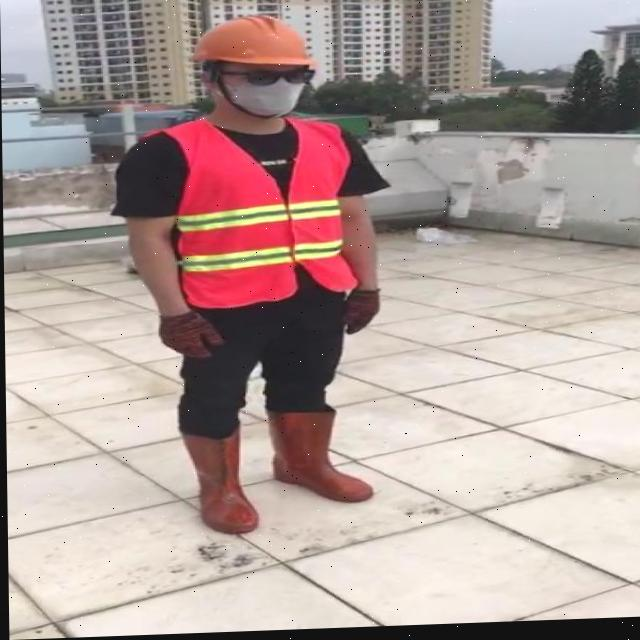Gloves: (158, 310, 226, 363), (342, 289, 381, 337)
Helmet: (192, 15, 318, 81)
Safety-Boot: (266, 404, 373, 508), (181, 421, 258, 537)
Safety-Vest: (140, 114, 359, 312)
